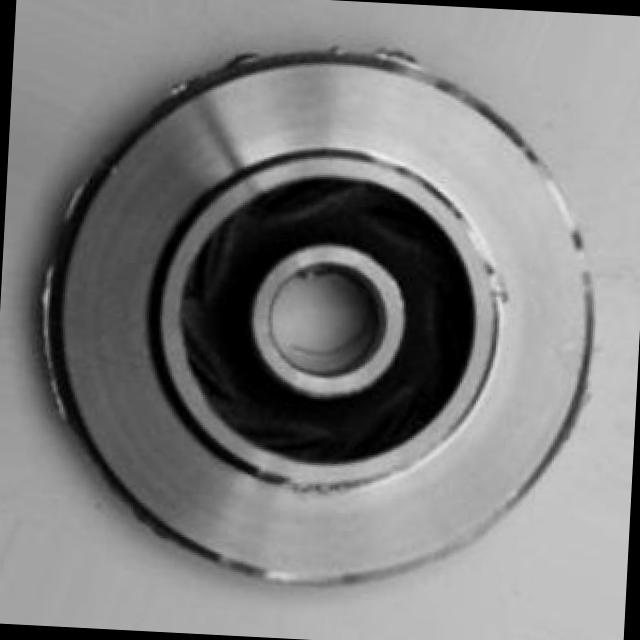Defect: (377, 45, 426, 76)
